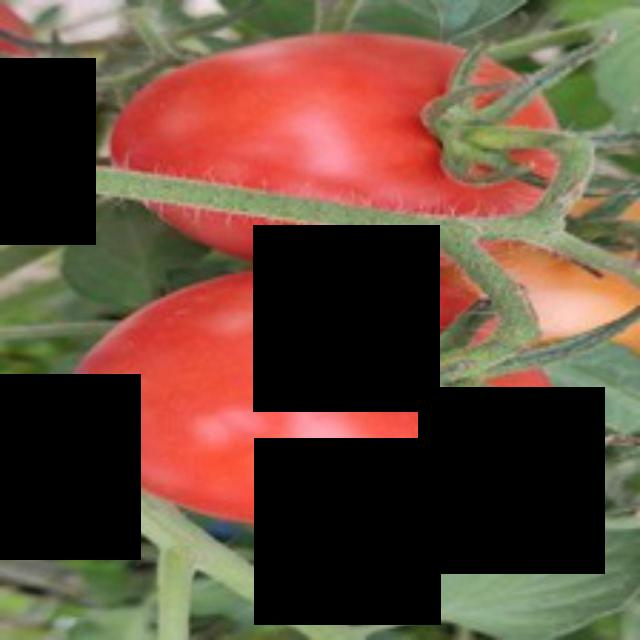tomato: (60, 232, 567, 544), (115, 28, 581, 283)
